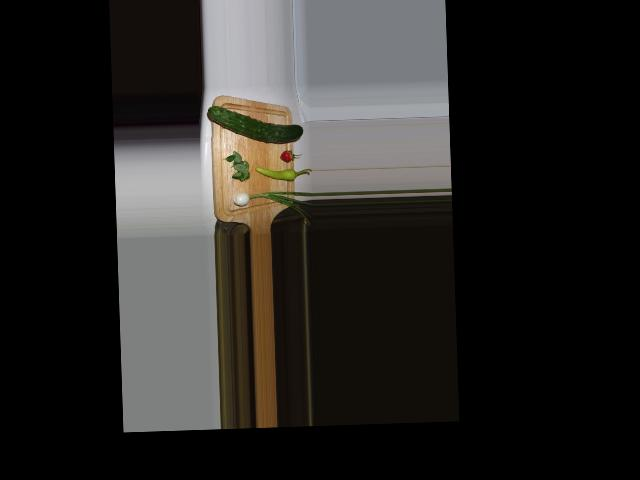cucumber: (207, 102, 302, 145)
